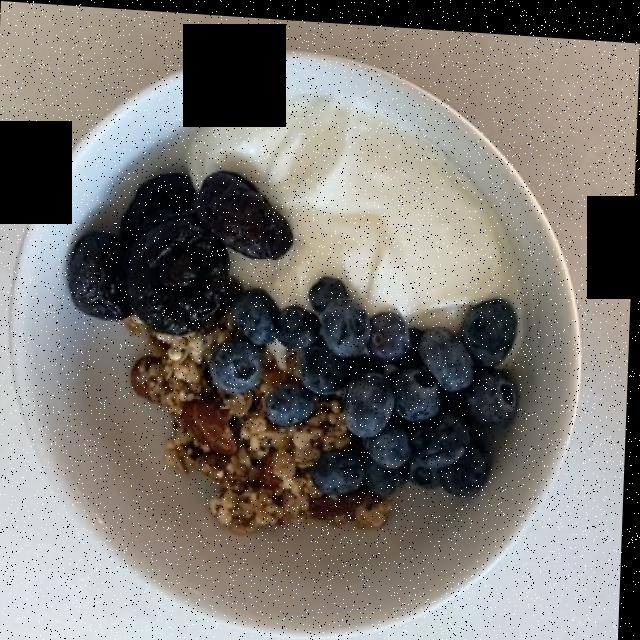blueberries: (223, 285, 520, 503)
crunch-muesli: (142, 331, 400, 532)
yaourt-yahourt-yogourt-ou-yoghourt-natural: (198, 82, 532, 315)
